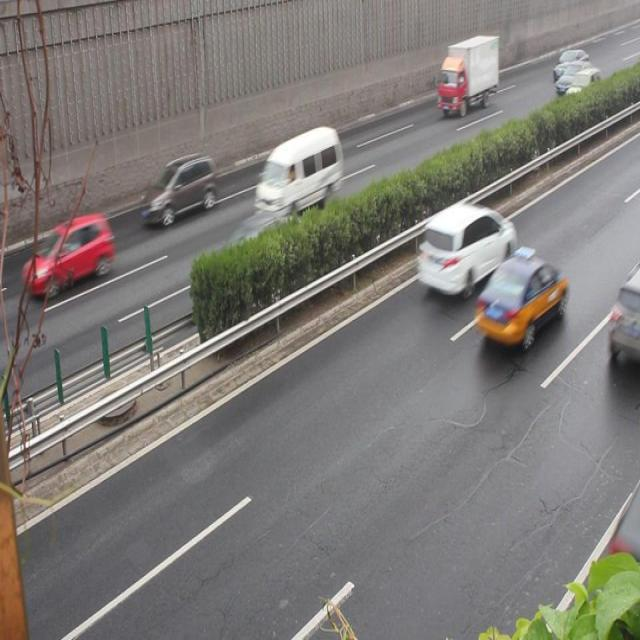bus: (436, 35, 499, 119)
car: (416, 202, 516, 296), (476, 250, 565, 346), (208, 213, 298, 294), (29, 212, 114, 294), (141, 153, 216, 227), (562, 68, 602, 119), (554, 58, 589, 98)
truck: (254, 127, 342, 218)
